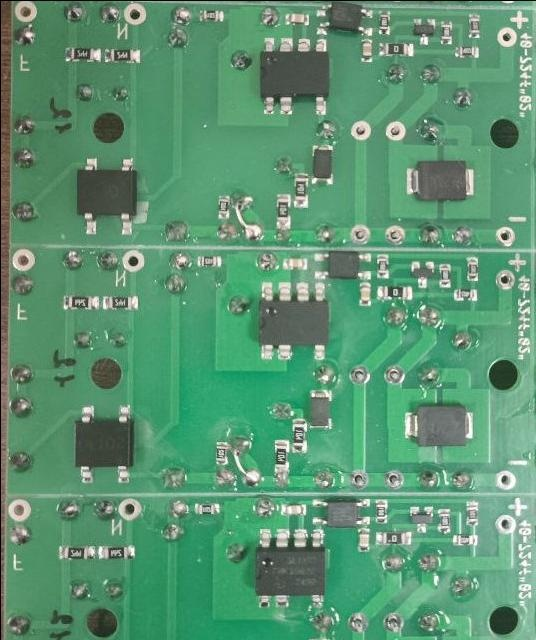chip-capacitor: (281, 256, 308, 271), (279, 501, 307, 515), (356, 526, 371, 552), (357, 280, 371, 306), (284, 11, 309, 25), (360, 37, 373, 63)
chip-resistor: (101, 293, 140, 310), (96, 543, 135, 560), (55, 544, 95, 560), (272, 437, 290, 472), (374, 284, 413, 300), (60, 294, 99, 310), (373, 529, 412, 545), (63, 46, 101, 62), (292, 171, 308, 209), (275, 192, 291, 229), (376, 41, 415, 56), (291, 416, 307, 452), (103, 47, 141, 62), (375, 252, 390, 279), (465, 254, 479, 282), (436, 506, 450, 534), (193, 501, 221, 515), (373, 497, 388, 523), (437, 261, 451, 288), (198, 8, 224, 22), (451, 287, 477, 301), (465, 498, 478, 526), (195, 254, 222, 267), (451, 532, 478, 545), (214, 440, 228, 465), (377, 9, 390, 35), (217, 193, 230, 219), (439, 19, 452, 44), (468, 12, 480, 38), (453, 45, 479, 57)
diode: (402, 402, 474, 447), (403, 158, 475, 202), (307, 387, 332, 430), (309, 143, 333, 185)
ic: (253, 280, 328, 363), (252, 527, 325, 609), (256, 36, 329, 116), (73, 154, 138, 235), (72, 401, 134, 484), (313, 1, 373, 36), (310, 249, 371, 280), (310, 496, 370, 525)
transistor: (409, 258, 434, 289), (408, 504, 434, 532), (411, 16, 436, 44)
